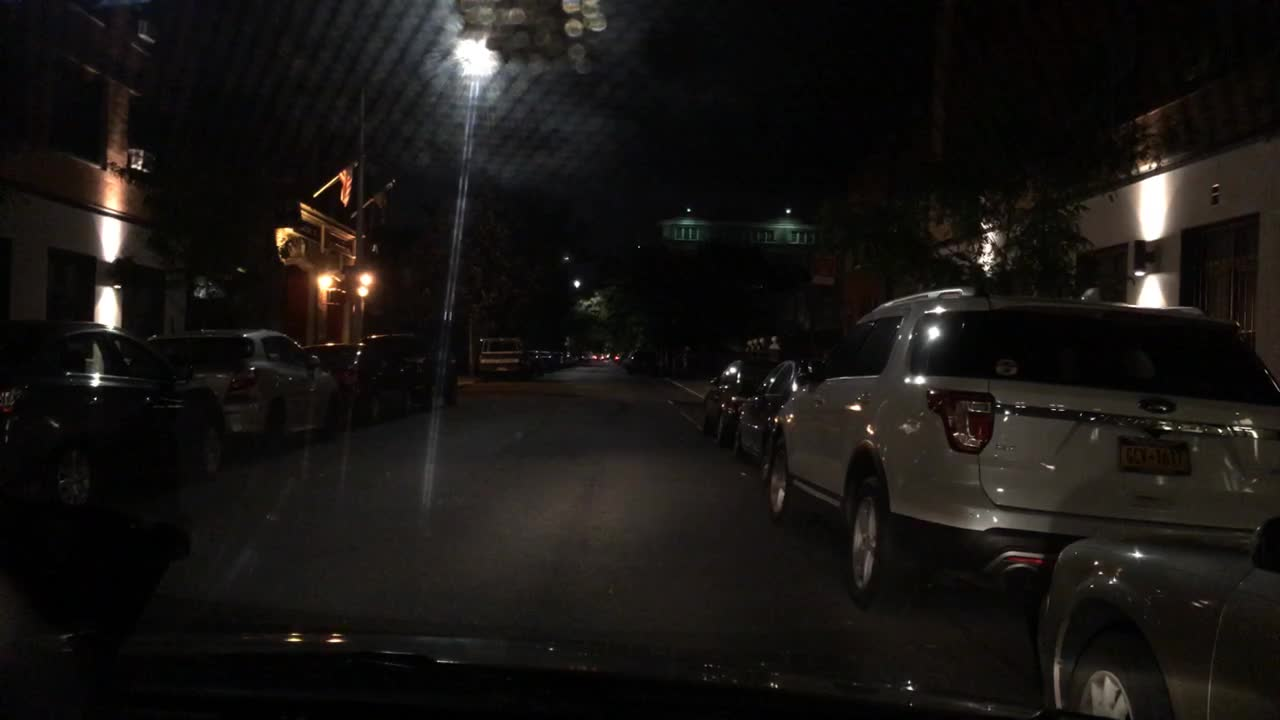car: (760, 284, 1278, 605), (1010, 509, 1278, 717), (11, 312, 226, 480), (148, 319, 346, 459), (0, 401, 96, 514), (728, 356, 816, 466), (699, 353, 783, 450), (364, 332, 459, 416), (303, 339, 381, 429), (476, 335, 529, 382), (628, 347, 669, 378), (529, 347, 545, 376), (539, 348, 556, 371), (609, 349, 628, 366), (564, 348, 578, 369), (578, 345, 593, 363), (554, 349, 565, 370), (603, 349, 614, 364), (595, 348, 602, 363)
